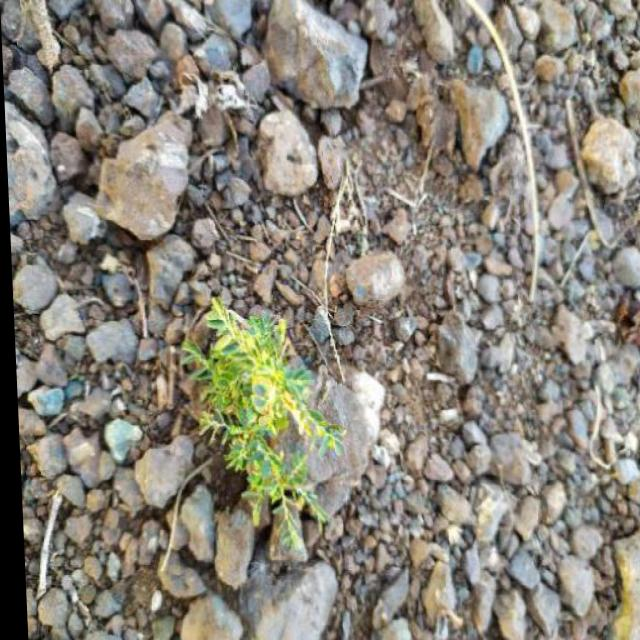weed: (184, 300, 360, 562)
